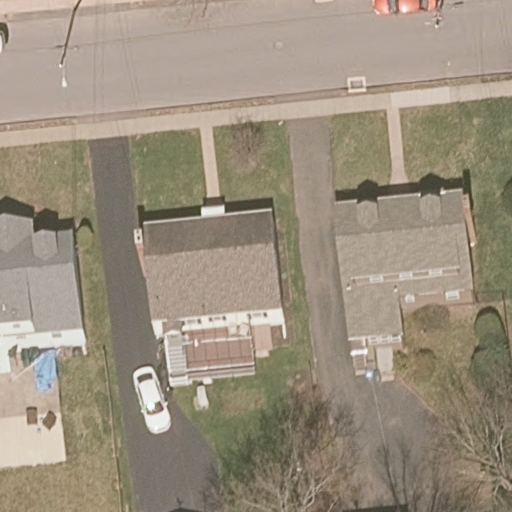DT: (55, 5, 75, 86)
